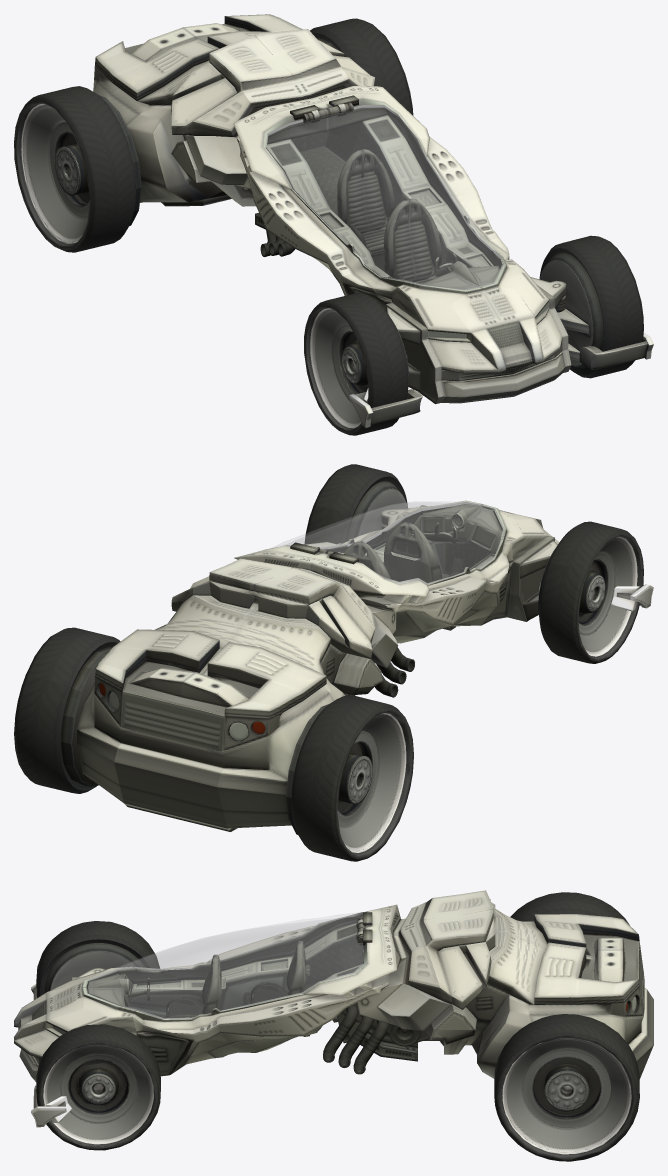
The model's file is future.glb.
The picture shows the model from 3 angles, top to bottom: view 1: azimuth 30°, elevation 25°; view 2: azimuth 150°, elevation 25°; view 3: azimuth 270°, elevation 25°; orthographic projection. The views are drawn at different scales.
Parts seen in each view (by area): view 1: future; view 2: future; view 3: future.
Boxes of the visible parts, bbox=[...] form: future: bbox=[14, 14, 653, 435]; future: bbox=[14, 464, 653, 861]; future: bbox=[14, 890, 653, 1161].
Bounding box in the file's own units: 2.41 × 1.46 × 4.6.
Materials: 3 (1 with a texture image).
